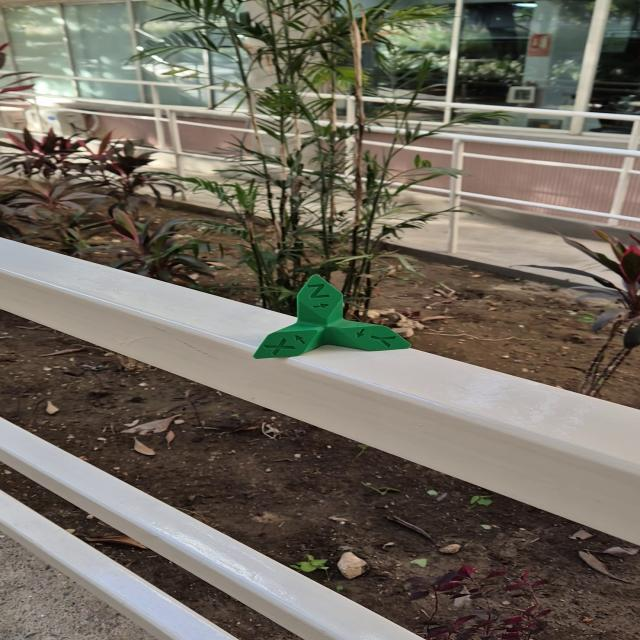objects: (251, 273, 414, 360)
